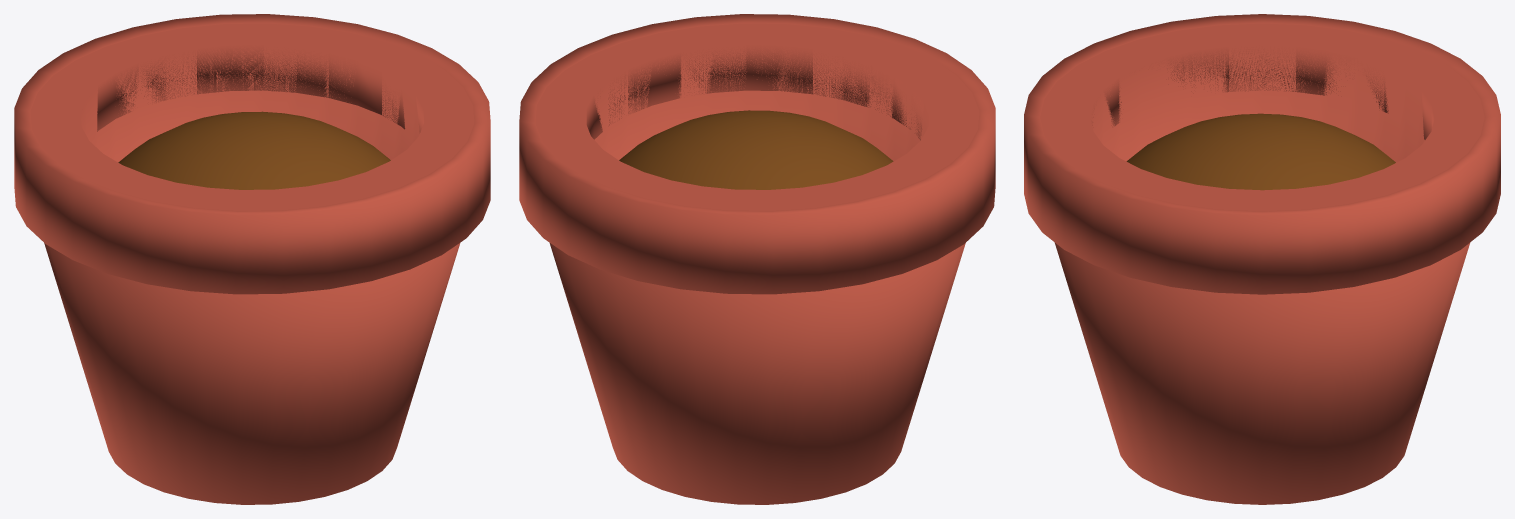
Rendered from MACETA HIBISCUS.fbx.
The picture shows the model from 3 angles, left to right: view 1: azimuth 30°, elevation 25°; view 2: azimuth 150°, elevation 25°; view 3: azimuth 270°, elevation 25°; orthographic projection.
Visible parts, largest first — view 1: MACETA HIBISCUS.001; view 2: MACETA HIBISCUS.001; view 3: MACETA HIBISCUS.001.
Part boxes in pixels (box(x1,y1,x2,y2)): MACETA HIBISCUS.001: box(14, 14, 490, 504); MACETA HIBISCUS.001: box(519, 14, 995, 504); MACETA HIBISCUS.001: box(1024, 14, 1500, 504).
Bounding box in the file's own units: 87.73 × 66.77 × 87.73.
